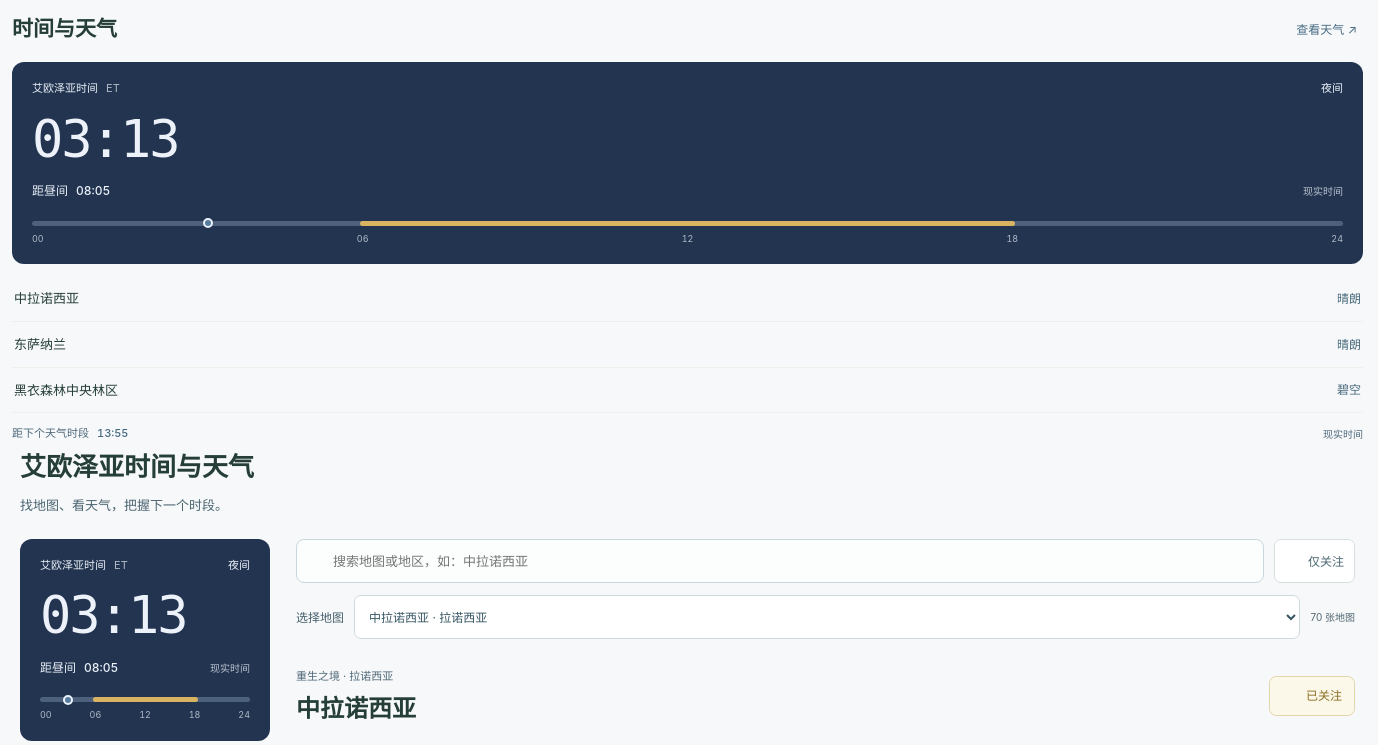
it: updates homepage favorites immediately and persists an explicit unfavorite
The width and height of the screenshot is (1378, 745).
Expected: the button with aria-label "查看中拉诺西亚天气" is shown, top-left (12, 276), bottom-right (1363, 322)
Click the button with aria-label "取消关注中拉诺西亚".
click(1312, 696)  # box top-left (1269, 676), bottom-right (1355, 716)
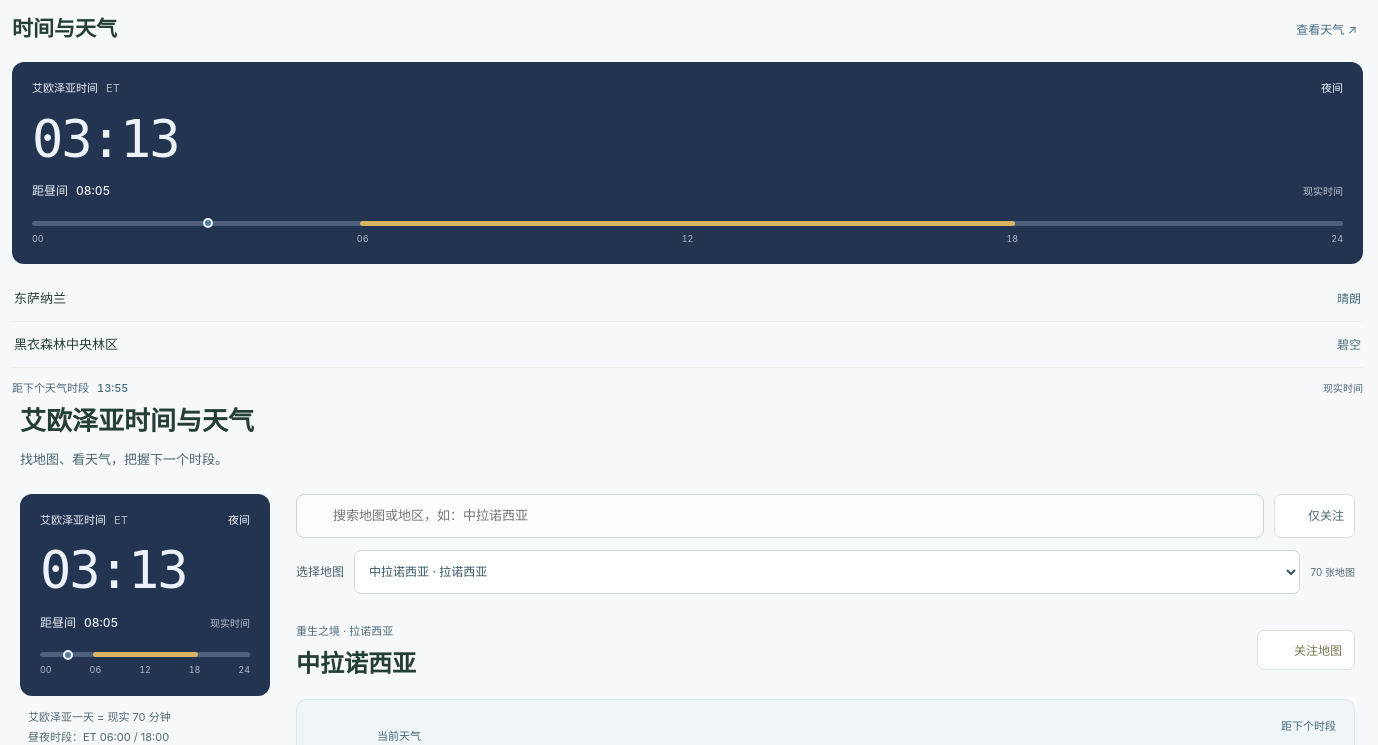
Result: the button "查看中拉诺西亚天气" is gone
